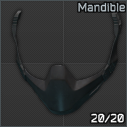Caiman Ballistic Mandible Guard: (0, 0, 127, 127)
